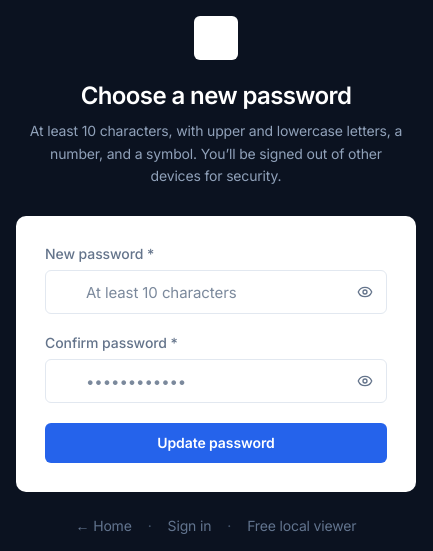
Test: ResetPasswordClient › resets the password using the link token and returns to sign in
Type "Password123!" into the password field labelled "New password *". click: (216, 292)
box: [45, 270, 387, 314]
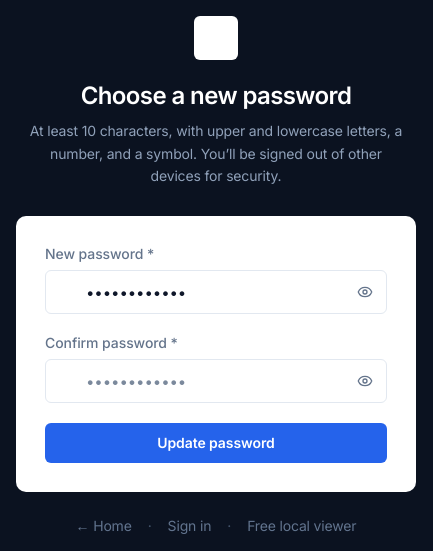
Type "Password123!" into the password field labelled "Confirm password *". click: (216, 381)
box: [45, 359, 387, 403]
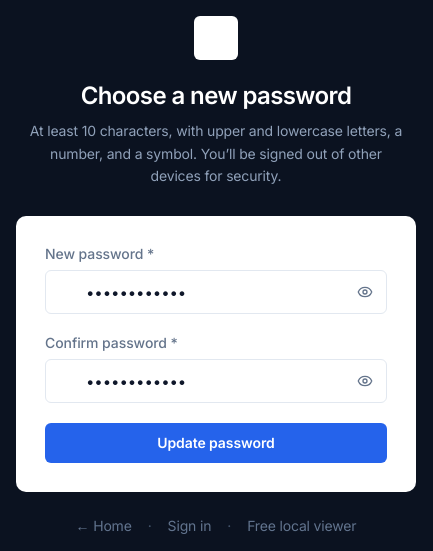
Click the button "Update password". click: click(216, 443)
box: [45, 423, 387, 463]
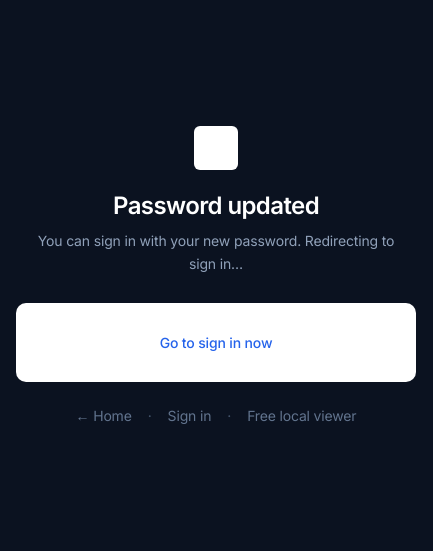
Expected: the heading "Password updated" is shown, [113, 190, 319, 222]
